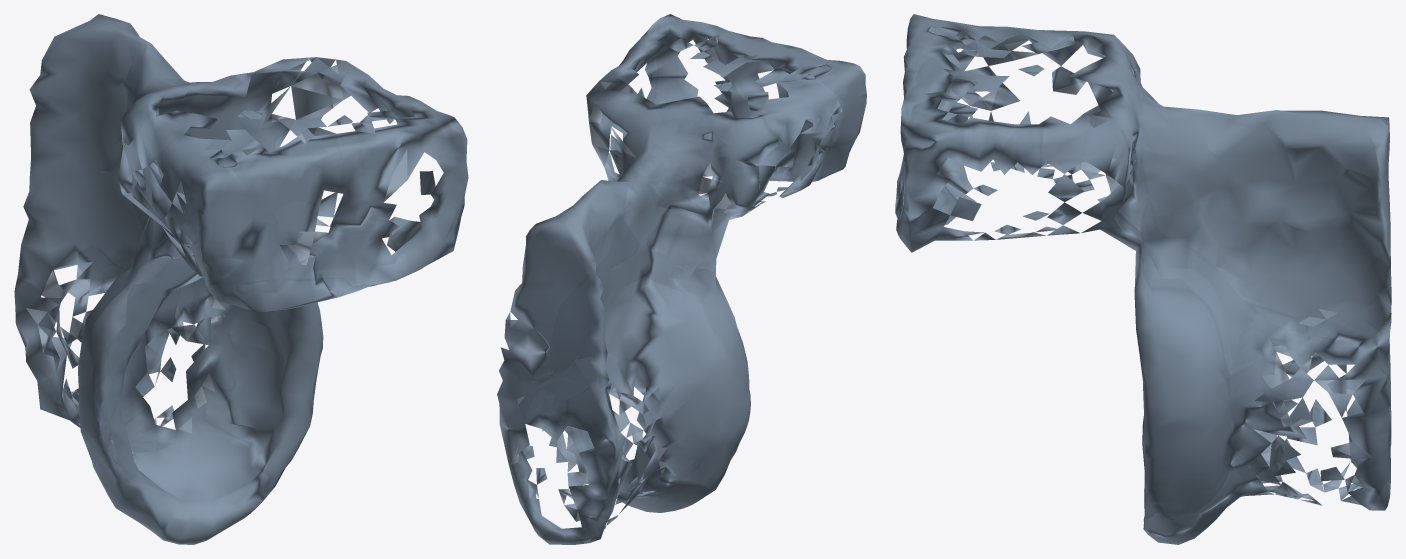
Rendered from sample_900_recon.obj.
3 views of the same model, side by side, from view 1: azimuth 30°, elevation 25°; view 2: azimuth 150°, elevation 25°; view 3: azimuth 270°, elevation 25° (orthographic). The views are drawn at different scales.
Size of the model in its own units: 0.8047 by 1.43 by 1.37.
